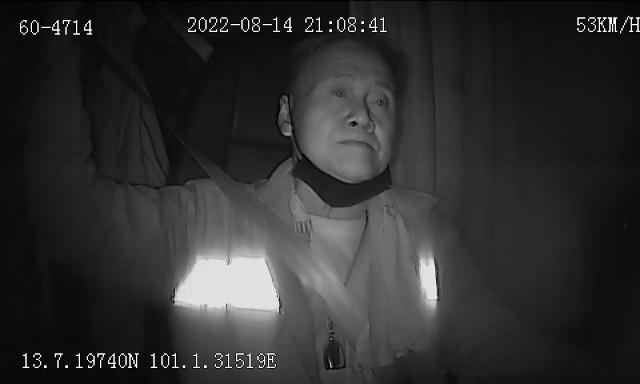SafeDriving: (364, 84, 394, 114), (325, 76, 355, 106)
Seatbelt: (194, 150, 380, 384)
